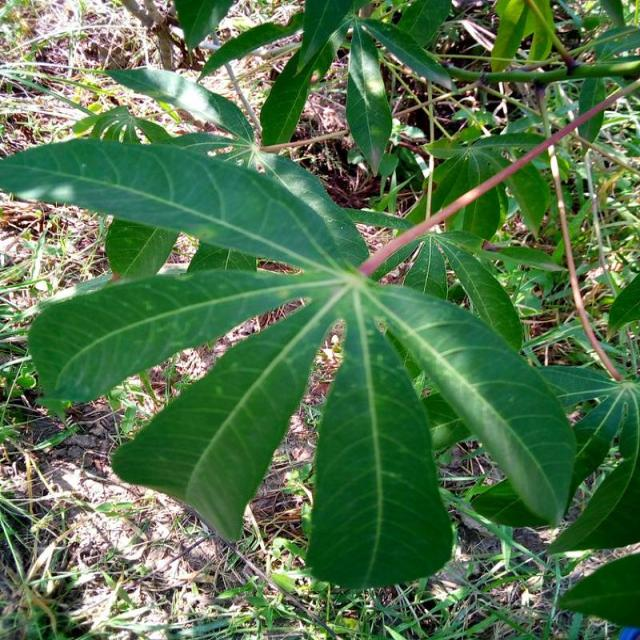cassava leaf: (2, 68, 578, 589), (0, 135, 369, 274), (302, 285, 457, 591)
